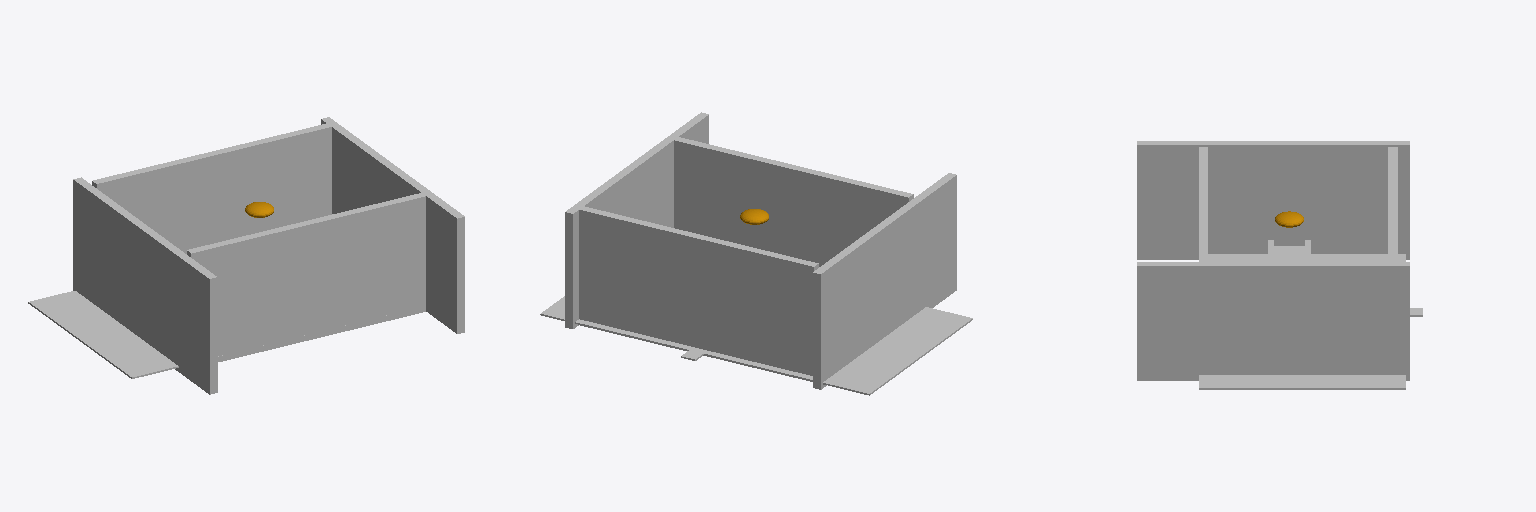
Rendered from Conveyor.obj.
3 views of the same model, side by side, from view 1: azimuth 30°, elevation 25°; view 2: azimuth 150°, elevation 25°; view 3: azimuth 270°, elevation 25° (orthographic).
Visible parts, largest first — view 1: Cube.003, Cube.001, Cube.004, Cube.005, Cube.002; view 2: Cube.001, Cube.003, Cube.004, Cube.005, Cube.002; view 3: Cube.005, Cube.004, Cube.002, Cube.001, Cube.003, Belt.
Part boxes in pixels (left/top/right/bottom): Cube.003: left=187, top=193, right=426, bottom=361; Cube.001: left=92, top=123, right=332, bottom=253; Cube.004: left=73, top=177, right=217, bottom=394; Cube.005: left=321, top=117, right=464, bottom=333; Cube.002: left=28, top=291, right=425, bottom=378; Cube.001: left=578, top=206, right=818, bottom=381; Cube.003: left=674, top=137, right=913, bottom=266; Cube.004: left=813, top=173, right=956, bottom=389; Cube.005: left=565, top=112, right=708, bottom=328; Cube.002: left=540, top=296, right=972, bottom=395; Cube.005: left=1137, top=262, right=1409, bottom=380; Cube.004: left=1137, top=141, right=1409, bottom=259; Cube.002: left=1199, top=254, right=1422, bottom=389; Cube.001: left=1388, top=147, right=1397, bottom=261; Cube.003: left=1199, top=147, right=1207, bottom=261; Belt: left=1268, top=240, right=1310, bottom=261.
Bounding box in the file's own units: 25.7 × 8.62 × 19.3.